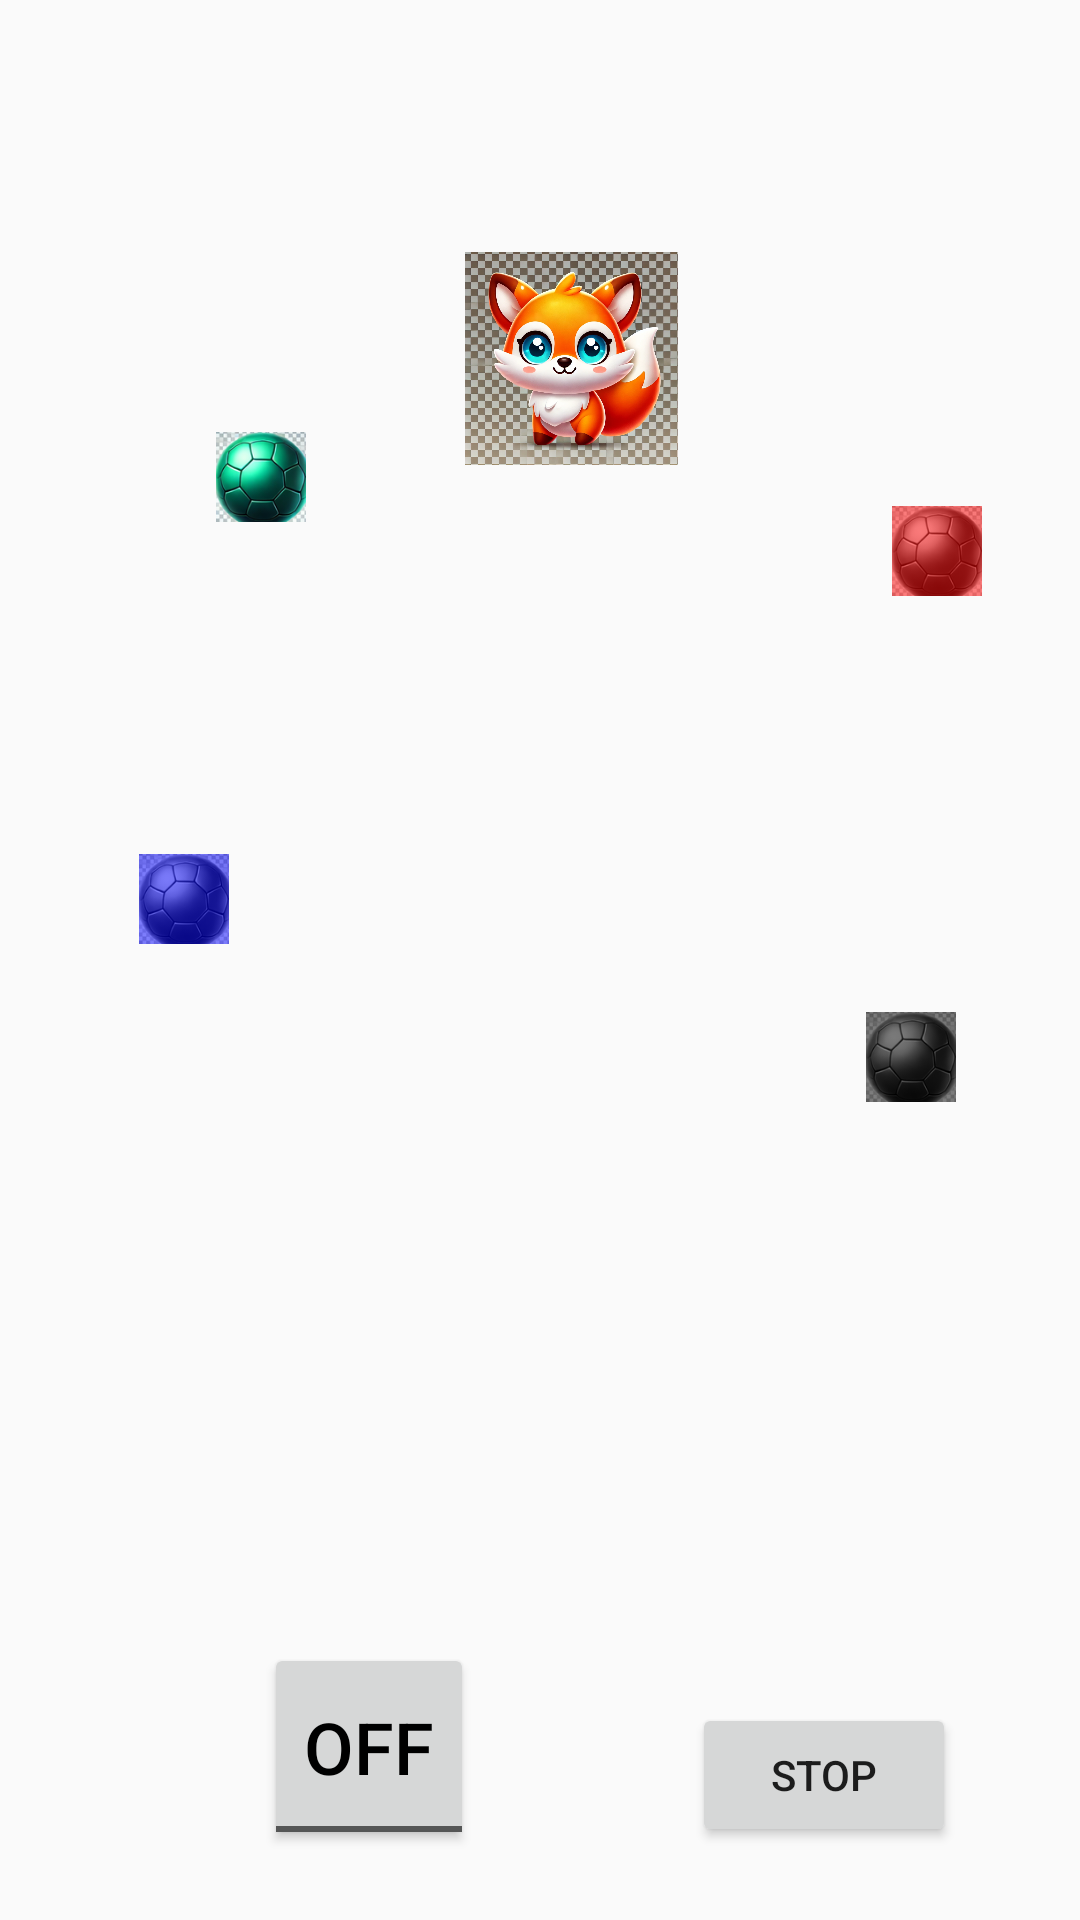

Icons on this 1080*1920 Android screen, each with its box as (x1, y1, x2, y2):
blackball: (866, 1012, 956, 1102)
blueball: (139, 854, 229, 944)
fox: (465, 252, 678, 465)
greenball: (216, 432, 306, 522)
redball: (892, 506, 982, 596)
